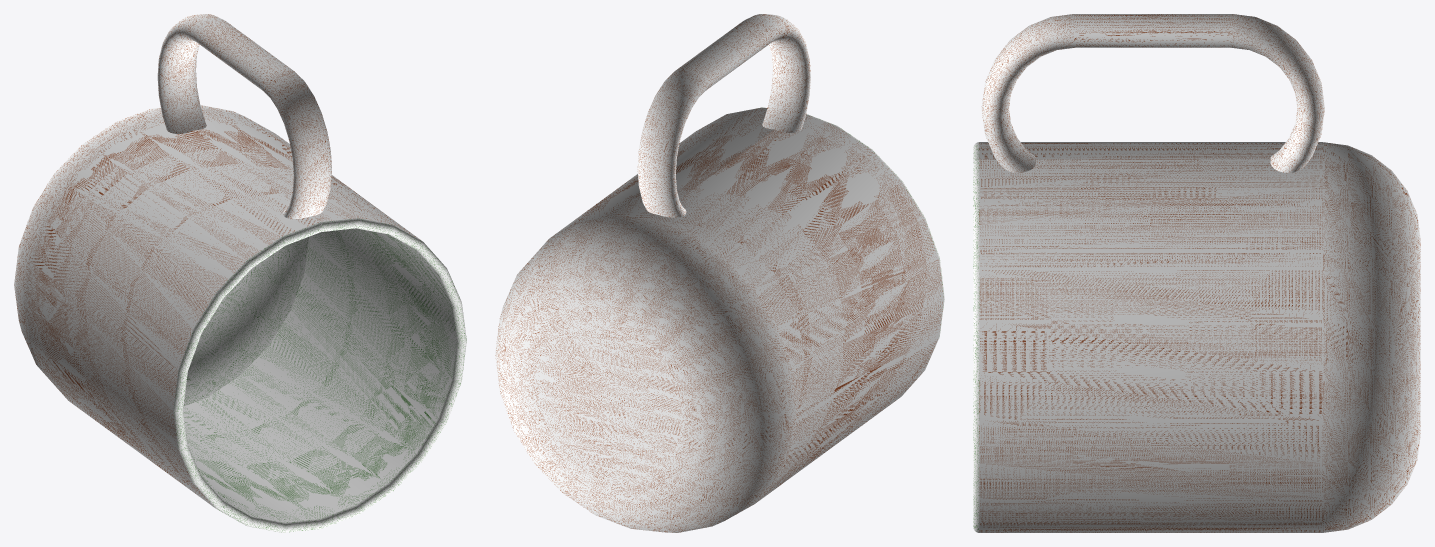
Rendered from model_scale.obj.
The picture shows the model from 3 angles, left to right: view 1: azimuth 30°, elevation 25°; view 2: azimuth 150°, elevation 25°; view 3: azimuth 270°, elevation 25°; orthographic projection. The views are drawn at different scales.
Parts seen in each view (by area): view 1: mesh1_mesh1-geometry, mesh3_mesh3-geometry; view 2: mesh1_mesh1-geometry, mesh3_mesh3-geometry; view 3: mesh1_mesh1-geometry, mesh3_mesh3-geometry.
Part boxes in pixels (x1,y1,x2,y2): mesh1_mesh1-geometry: [14, 105, 466, 532]; mesh3_mesh3-geometry: [157, 14, 331, 218]; mesh1_mesh1-geometry: [495, 107, 944, 532]; mesh3_mesh3-geometry: [637, 14, 810, 217]; mesh1_mesh1-geometry: [973, 142, 1420, 532]; mesh3_mesh3-geometry: [981, 14, 1324, 172].
Size of the model in its own units: 0.0778 by 0.1089 by 0.0887.
